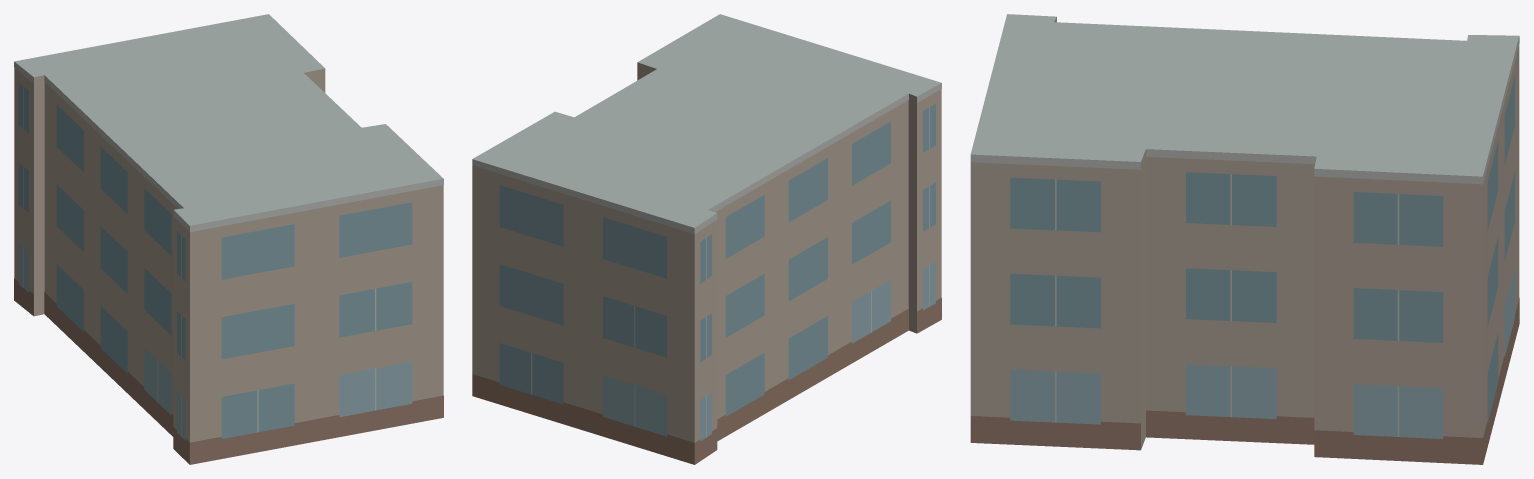
The model's file is survey-upis-32879875.glb.
The picture shows the model from 3 angles, left to right: view 1: azimuth 30°, elevation 25°; view 2: azimuth 150°, elevation 25°; view 3: azimuth 270°, elevation 25°; orthographic projection. The views are drawn at different scales.
Visible parts, largest first — view 1: survey-upis-32879875.tmp; view 2: survey-upis-32879875.tmp; view 3: survey-upis-32879875.tmp.
Boxes of the visible parts, x1=… form: survey-upis-32879875.tmp: x1=14, y1=14, x2=443, y2=464; survey-upis-32879875.tmp: x1=472, y1=14, x2=941, y2=464; survey-upis-32879875.tmp: x1=970, y1=14, x2=1519, y2=464.
Bounding box in the file's own units: 11.08 × 9.15 × 15.8.
